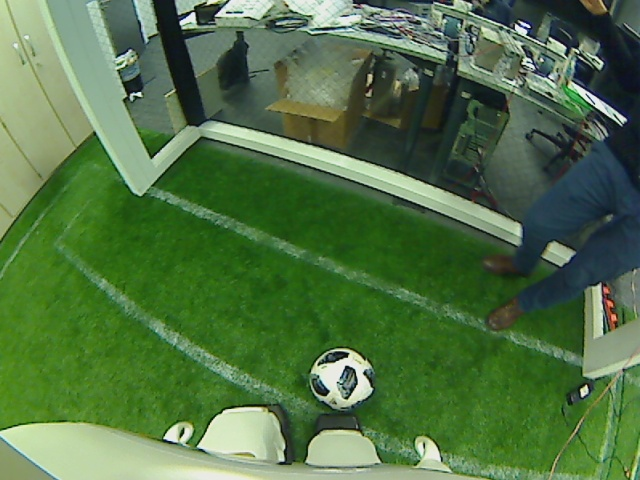ball: (305, 342, 376, 411)
